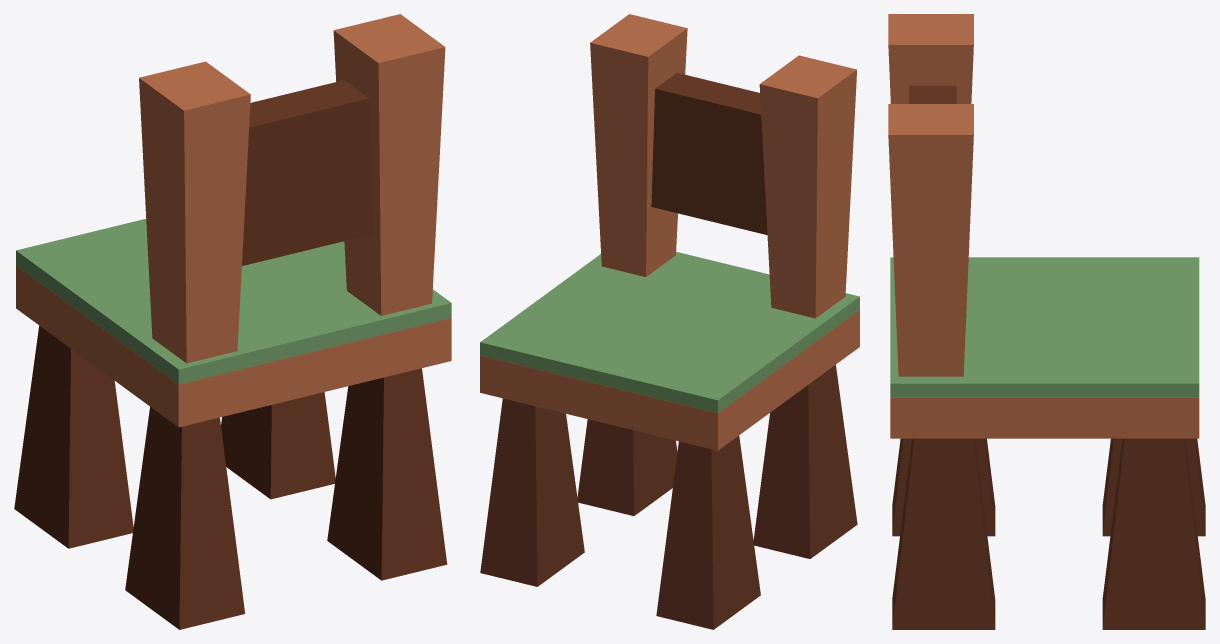
File: base_1unit_chair_asset.fbx
3 renders of one model, left to right at view 1: azimuth 30°, elevation 25°; view 2: azimuth 150°, elevation 25°; view 3: azimuth 270°, elevation 25°, orthographic. The views are drawn at different scales.
Parts seen in each view (by area): view 1: Cube.145, Cube.146, Cube.142, Cube.143, Cube.144, Cube.141; view 2: Cube.145, Cube.142, Cube.146, Cube.143, Cube.144, Cube.141; view 3: Cube.145, Cube.142, Cube.143, Cube.141, Cube.146, Cube.144.
Part boxes in pixels (box(x1,y1,x2,y2)): Cube.145: box(14, 325, 447, 629); Cube.146: box(139, 61, 250, 363); Cube.142: box(16, 219, 451, 384); Cube.143: box(333, 14, 445, 315); Cube.144: box(242, 80, 373, 265); Cube.141: box(16, 265, 451, 427); Cube.145: box(480, 365, 857, 629); Cube.142: box(480, 251, 859, 413); Cube.146: box(759, 55, 856, 318); Cube.143: box(590, 14, 687, 276); Cube.144: box(651, 73, 767, 235); Cube.141: box(480, 309, 859, 450); Cube.145: box(892, 438, 1205, 629); Cube.142: box(890, 257, 1199, 397); Cube.143: box(888, 104, 973, 376); Cube.141: box(890, 397, 1199, 438); Cube.146: box(888, 14, 973, 103); Cube.144: box(909, 85, 956, 103).
Size of the model in its own units: 22.07 by 40.18 by 23.43.
